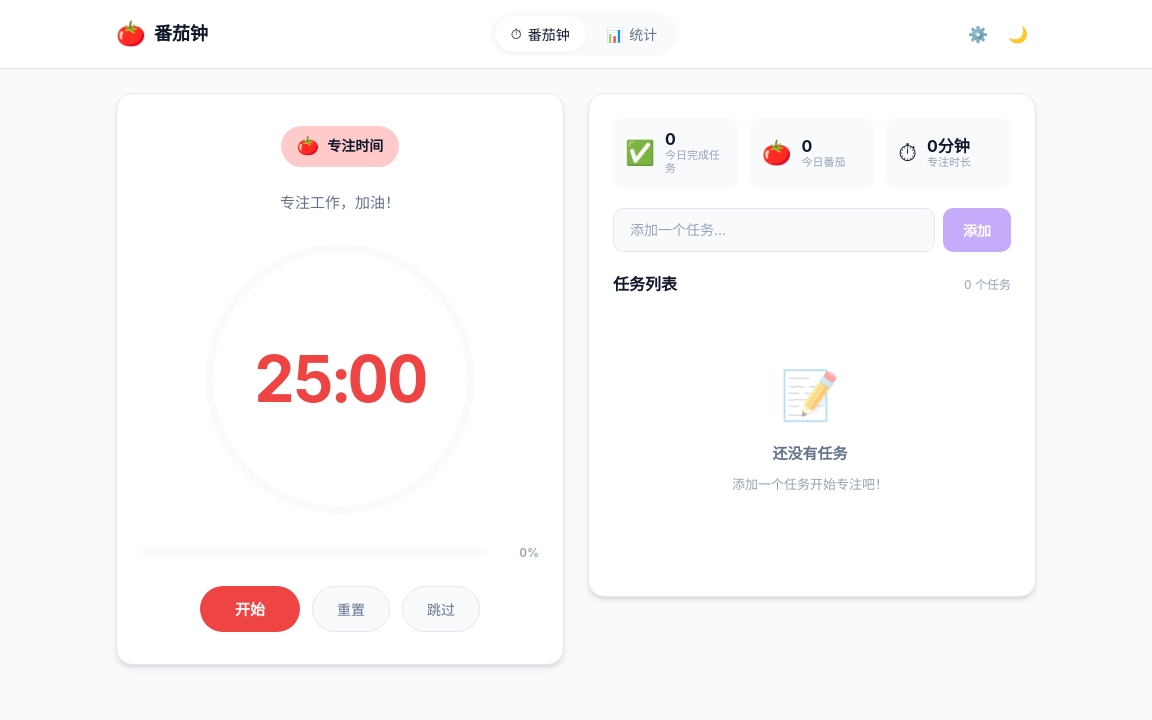
Test: App phase switching via skip › switches from work to short break after skip
Check: the text "专注时间" is shown, box [327,135,383,158]
Click the button "跳过". click: point(441, 609)
box: [402,586,480,632]
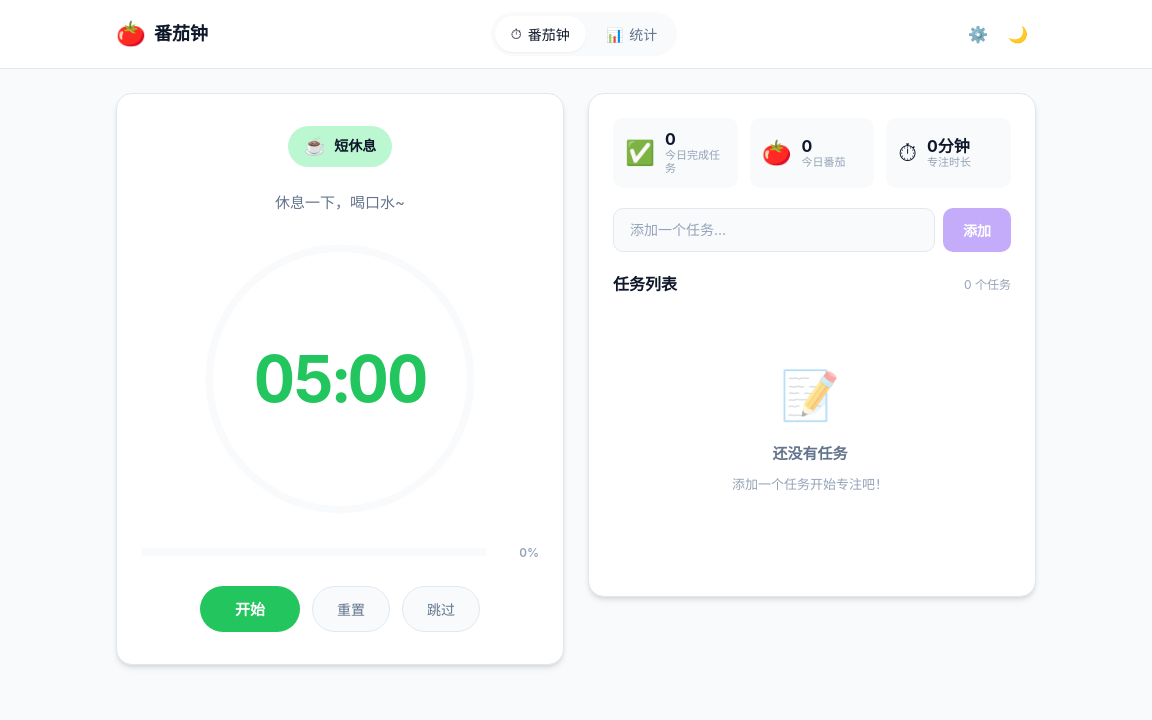
Check: the text "短休息" is shown, box [334,135,376,158]
